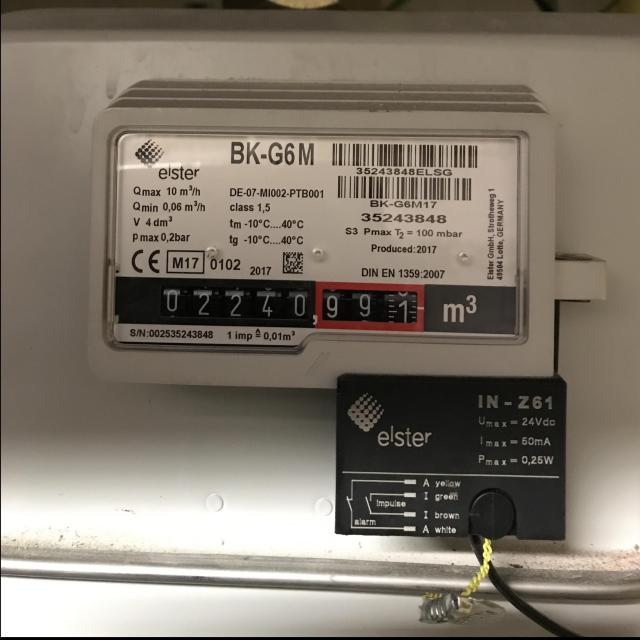gaz_meter: (121, 133, 519, 338)
indication: (136, 277, 429, 332)
